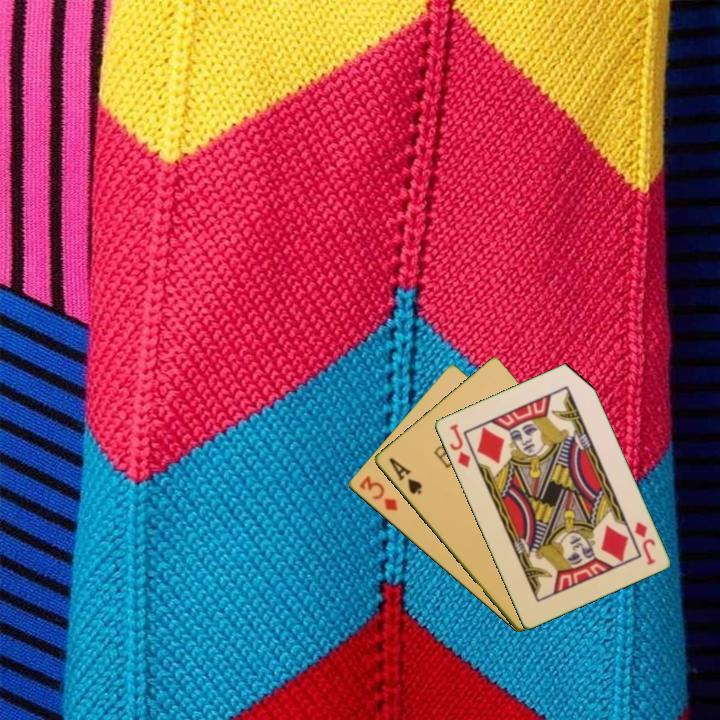3d: (355, 472, 400, 514)
As: (385, 454, 424, 497)
Jd: (445, 420, 473, 470), (630, 518, 658, 568)
